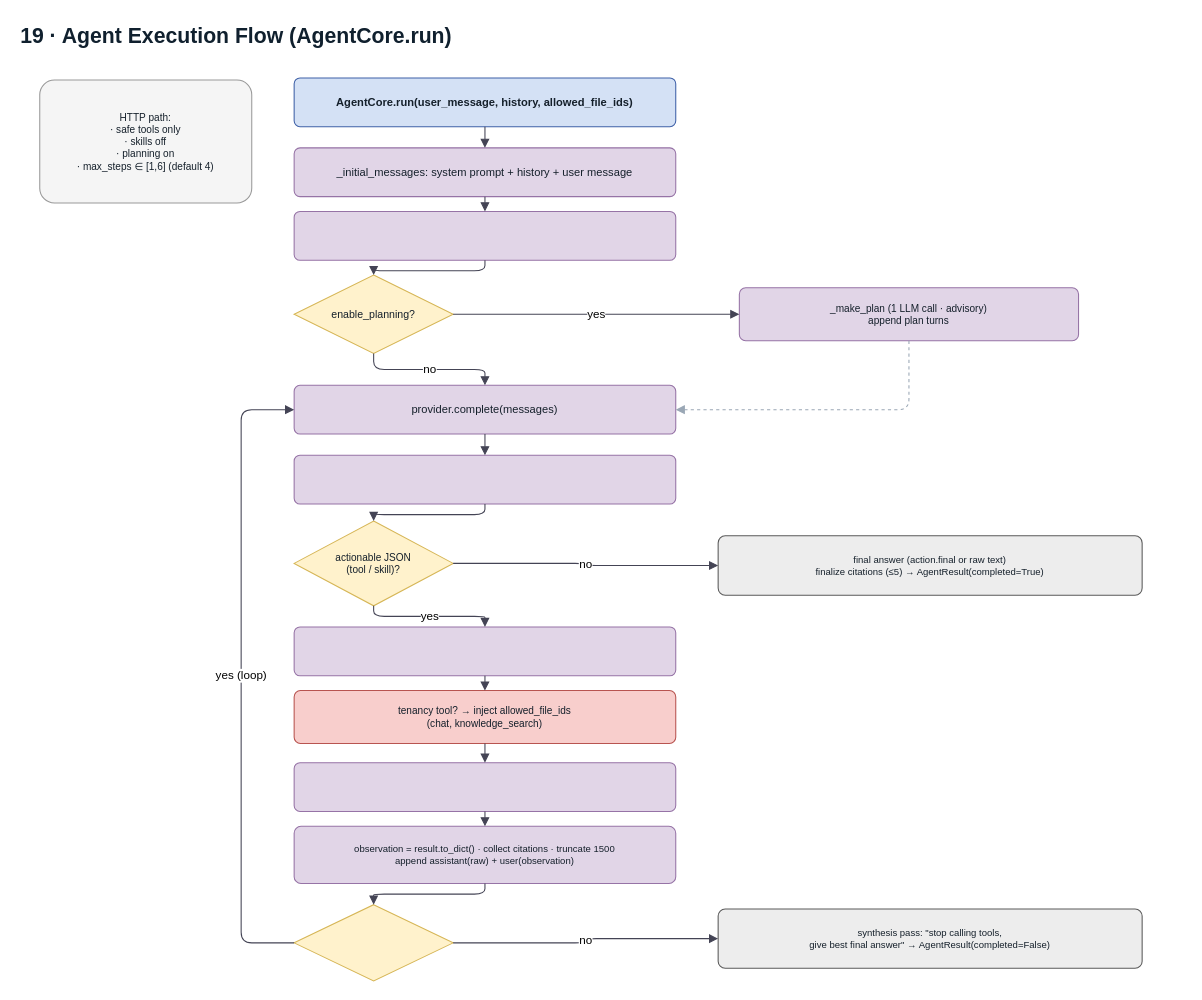
The diagram is 1202 pixels wide and 1000 high, and some of its shapes have lost their labels. The shapes that lost their labels are listed below. From the top down, each one's box as (x1, y1, x2, y2) in pixels, then its label:
(293, 210, 676, 260): build run_ctx (inject allowed_file_ids)
(293, 454, 676, 504): _extract_json(raw)
(293, 626, 676, 676): resolve tool / skill (lenient reclassify)
(293, 762, 676, 811): registry.run / skills.run → ToolResult / SkillResult
(293, 904, 453, 981): step < max_steps?
